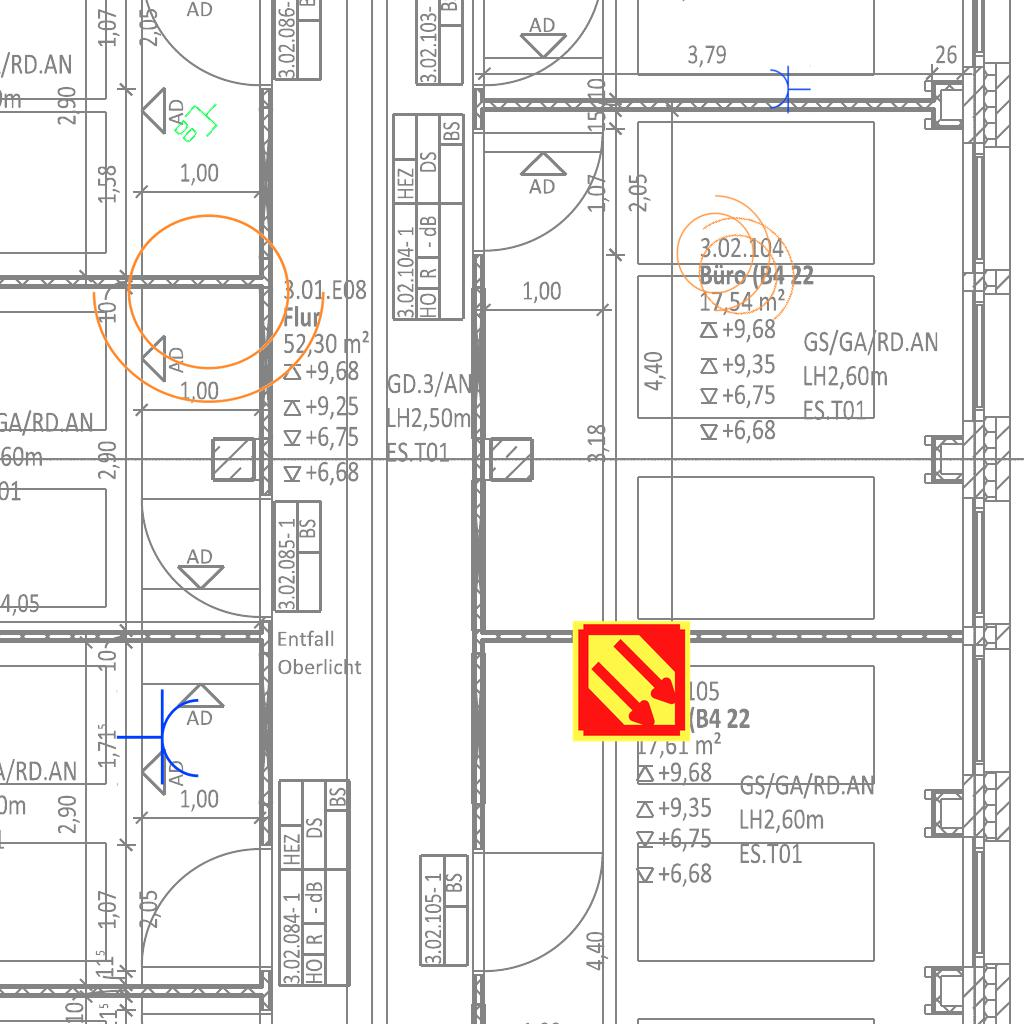ASR_Ansaugrauchmelder: (569, 619, 694, 744)
Datenanschluss_zweifach: (169, 91, 230, 153)
Scheinwerfer_fuer_Alarmbeleuchtung: (83, 189, 347, 414), (655, 182, 825, 356), (664, 184, 776, 316)
Schukosteckdose_einfach: (116, 688, 203, 788), (768, 64, 811, 114)
